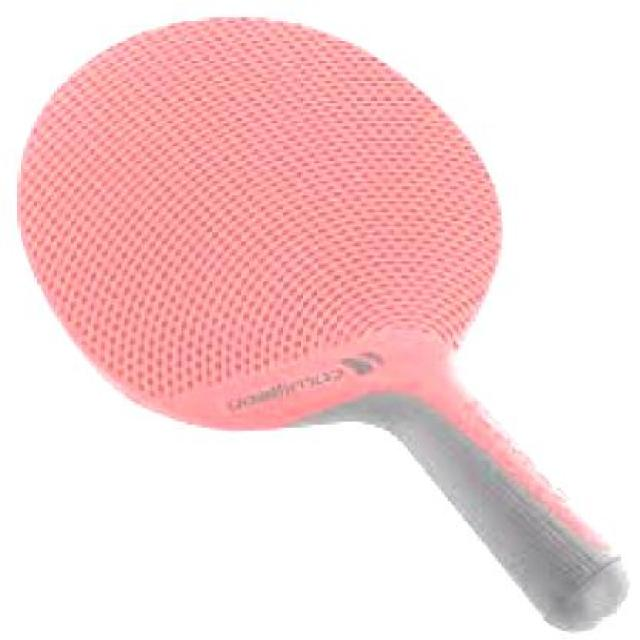table_tennis_racket: (14, 14, 632, 635)
